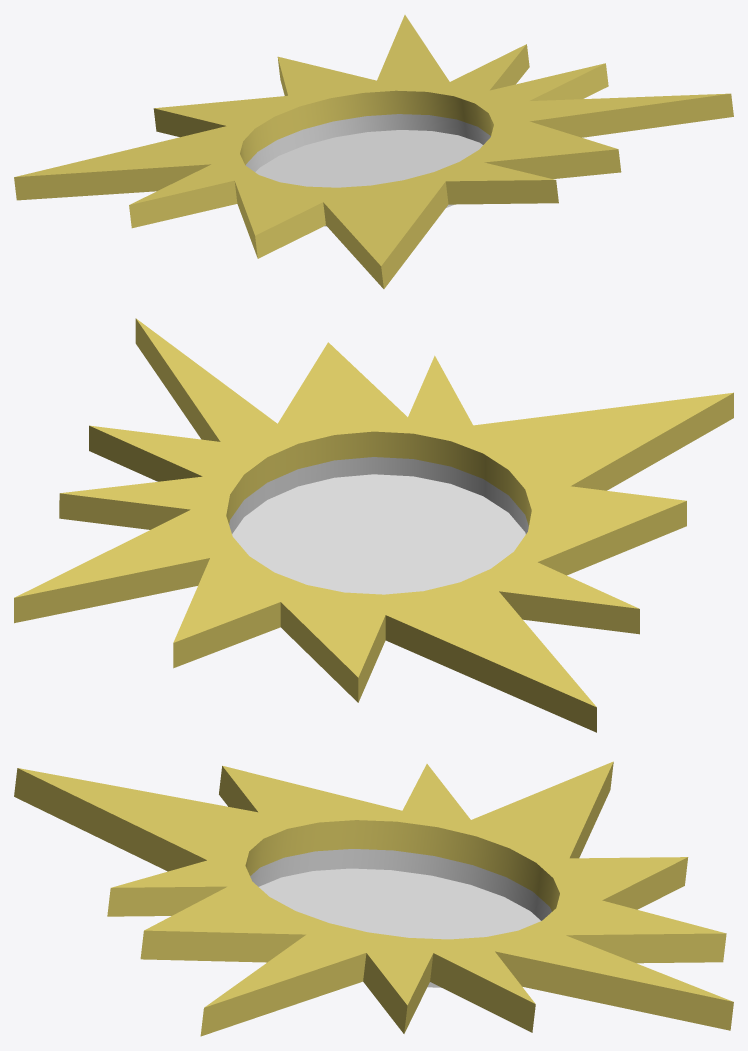
Rendered from Disk.fbx.
3 renders of one model, top to bottom at view 1: azimuth 30°, elevation 25°; view 2: azimuth 150°, elevation 25°; view 3: azimuth 270°, elevation 25°, orthographic. The views are drawn at different scales.
Visible parts, largest first — view 1: Layer0_001; view 2: Layer0_001; view 3: Layer0_001.
Boxes of the visible parts, <box> form: Layer0_001: <box>14,15,733,288</box>; Layer0_001: <box>14,318,733,732</box>; Layer0_001: <box>14,761,733,1036</box>.
Size of the model in its own units: 88.76 by 14.22 by 80.82.
